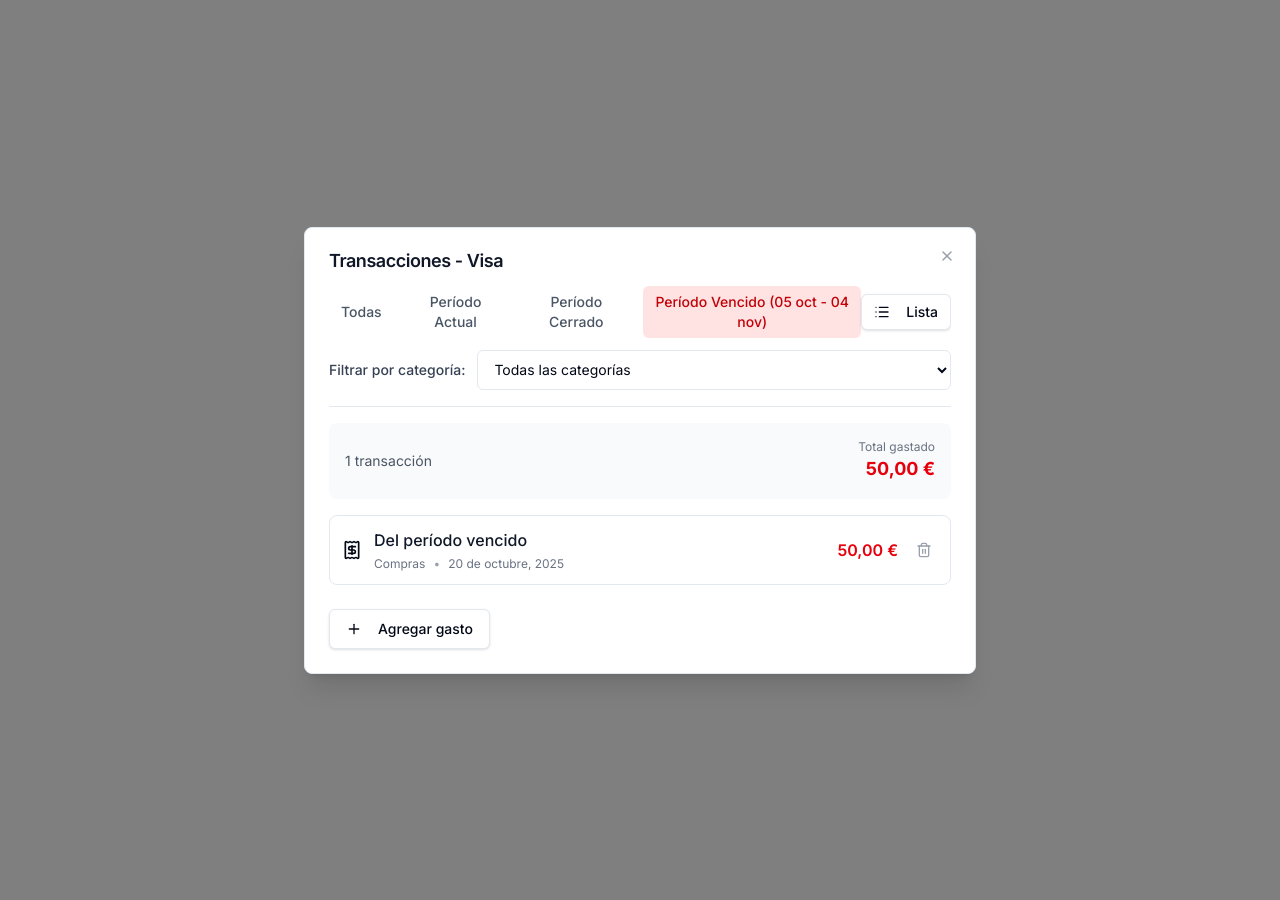
CreditCardTransactionsModal › con overduePeriod: cambiar a "Todas" muestra también las transacciones de otros períodos
Check: the text "Del período vencido" is shown, box 374,528 -> 527,552
Click the button "Todas": [361, 312] box 329,286 -> 394,338
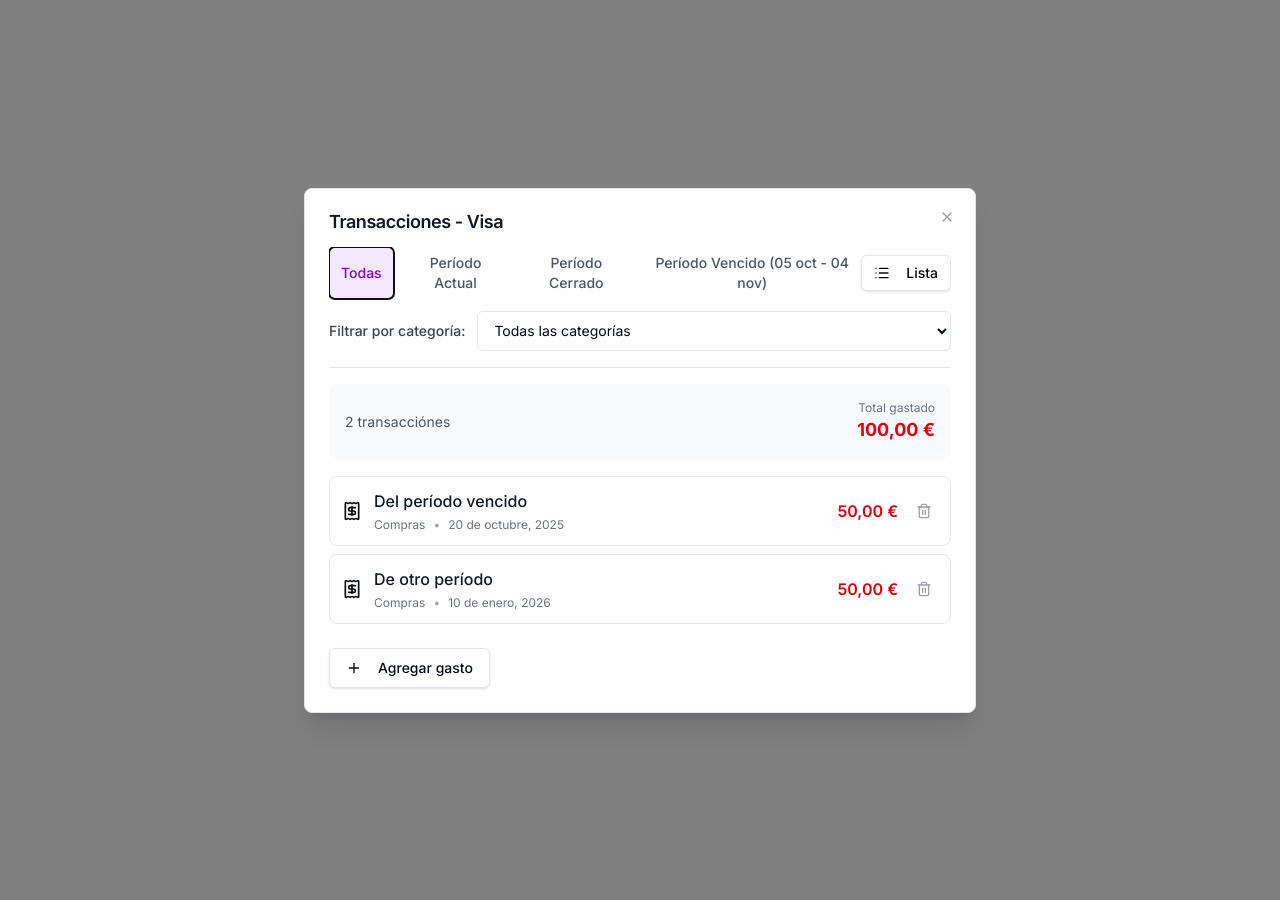
Check: the text "De otro período" is shown, box 374,566 -> 493,590
